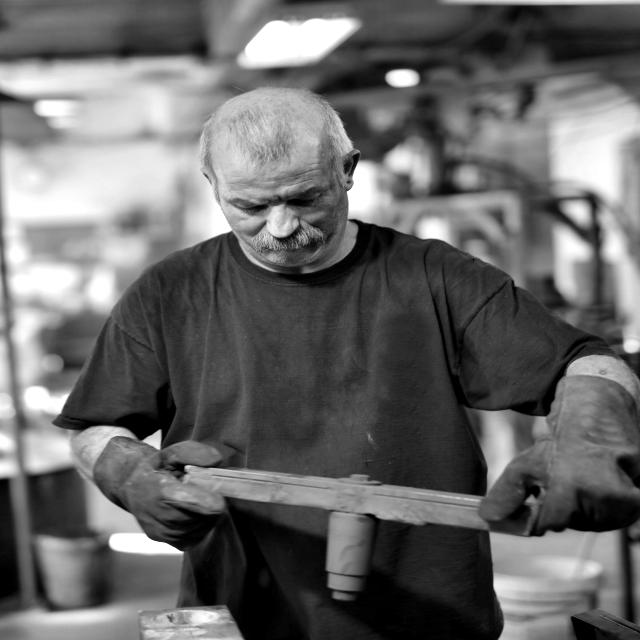No-Vest: (166, 240, 504, 633)
